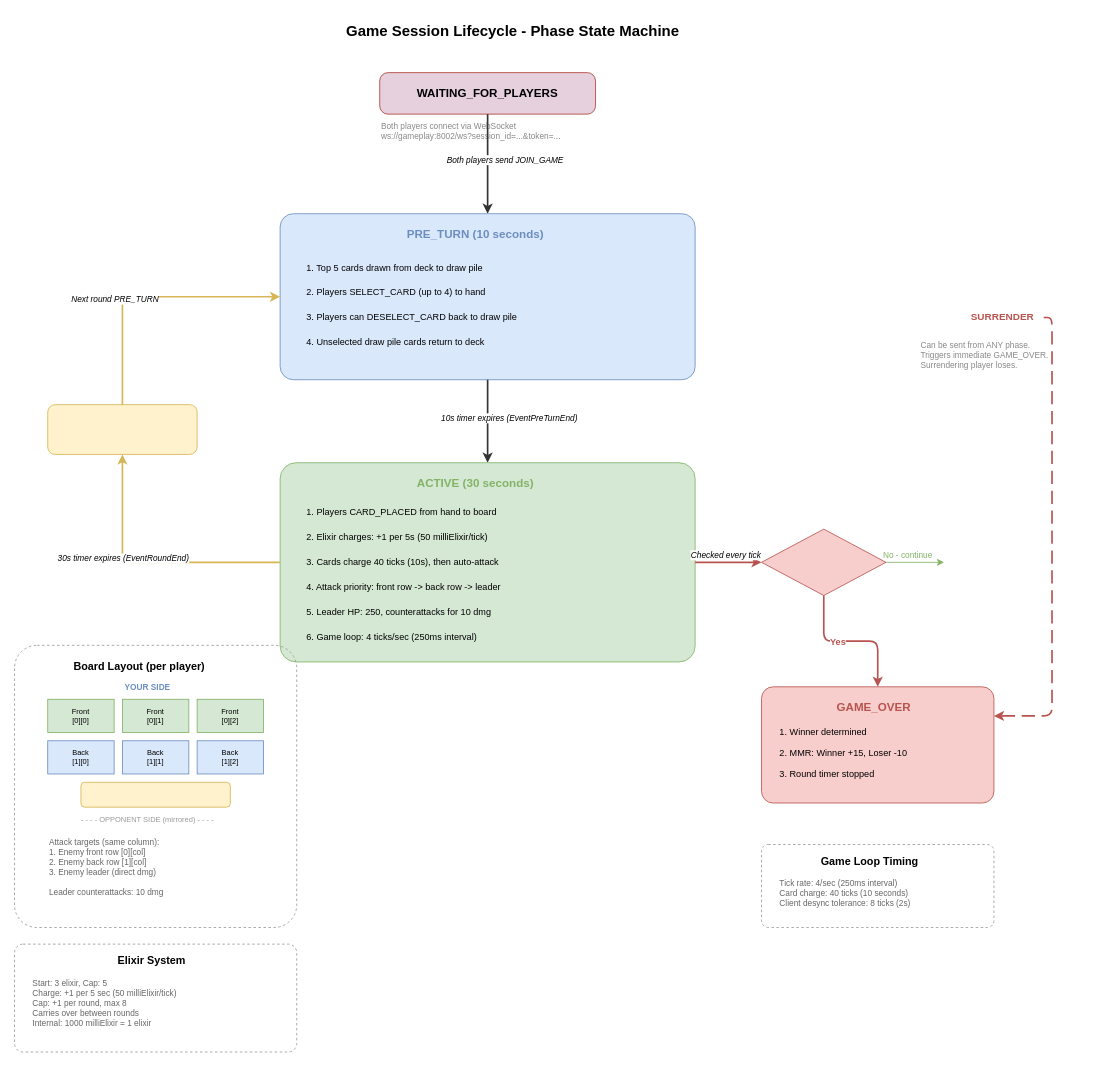
The diagram is 1108 pixels wide and 1067 high, and some of its shapes have lost their labels. Here are the shapes that lost their labels. From the top down, the centre of each, then its label:
point (122, 429): AdvanceRound() Elixir cap += 1 (max 8) Elixir carries over
point (823, 562): Leader HP <= 0?
point (155, 794): YOUR LEADER (HP: 250)
